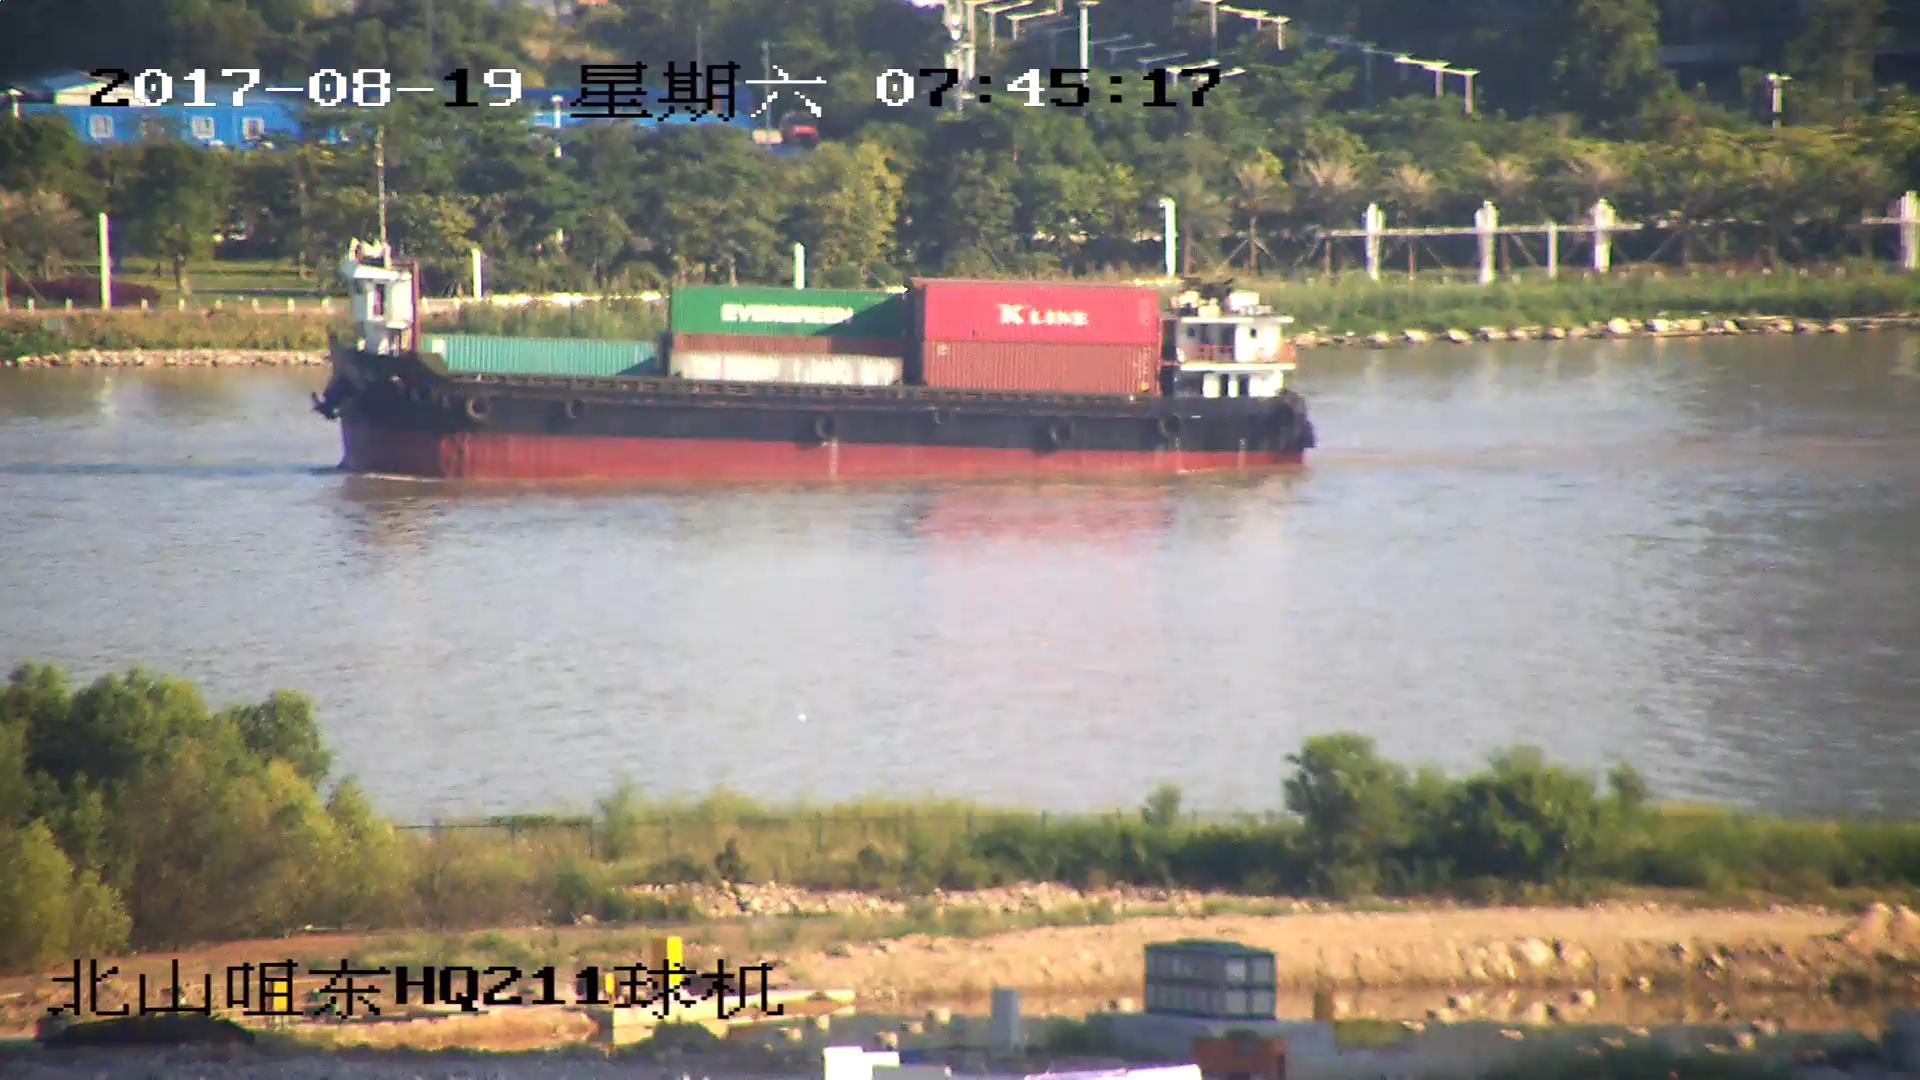Ship: (305, 215, 1325, 491)
